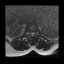CCS_normal: (31, 31, 33, 37)
LFS_stenosis: (34, 30, 36, 35)
LLS_normal: (33, 31, 34, 36)
RFS_stenosis: (28, 31, 30, 35)
RLS_normal: (30, 31, 31, 36)
